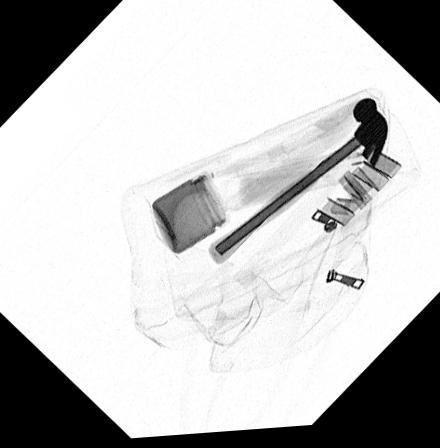Hammer: (206, 101, 388, 270)
